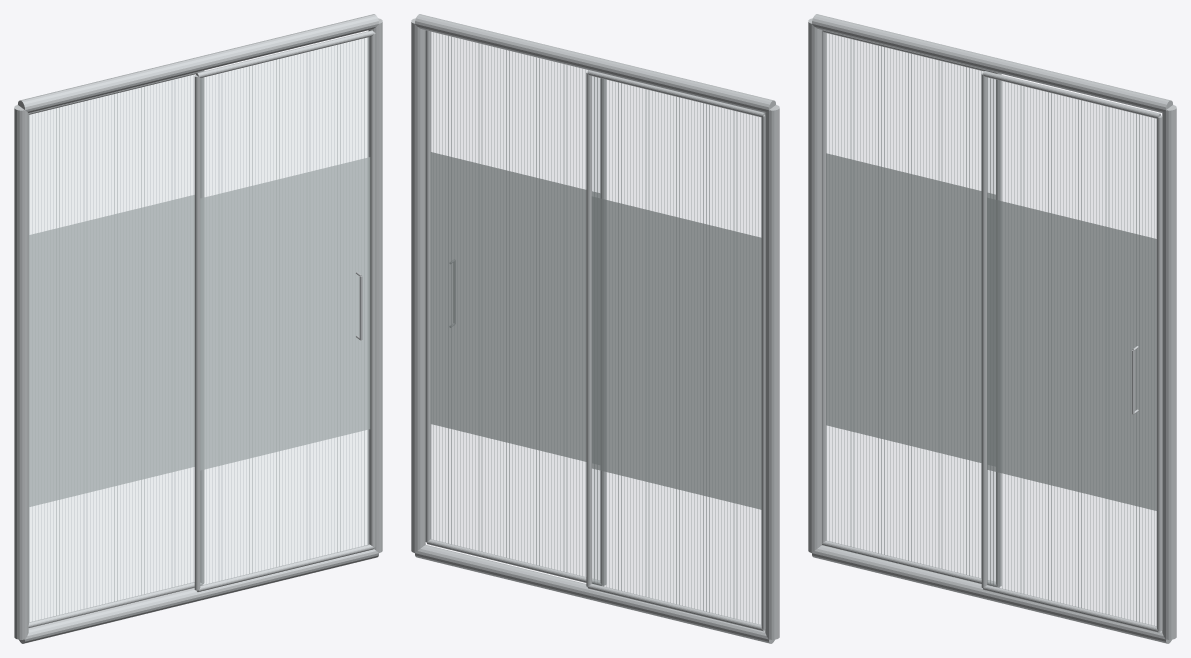
File: silver-frame-striped-privacy-shower-enclosure-04.glb
3 views of the same model, side by side, from view 1: azimuth 30°, elevation 25°; view 2: azimuth 150°, elevation 25°; view 3: azimuth 330°, elevation 25° (orthographic).
Parts seen in each view (by area): view 1: Sliding pane privacy band, Fixed pane privacy band, Sliding pane etched stripes, Fixed pane etched stripes, Rounded silver perimeter, Sliding pane upper clear, Fixed pane upper clear, Sliding pane lower clear, Fixed pane lower clear, Sliding pane rounded edging, Fixed pane rounded edging; view 2: Fixed pane privacy band, Sliding pane privacy band, Rounded silver perimeter, Fixed pane upper clear, Fixed pane lower clear, Sliding pane upper clear, Sliding pane lower clear, Fixed pane etched stripes, Sliding pane etched stripes, Fixed pane rounded edging, Sliding pane rounded edging; view 3: Sliding pane privacy band, Fixed pane privacy band, Sliding pane etched stripes, Fixed pane etched stripes, Rounded silver perimeter, Sliding pane upper clear, Sliding pane lower clear, Fixed pane upper clear, Fixed pane lower clear, Sliding pane rounded edging, Fixed pane rounded edging.
Part boxes in pixels (<box>): Sliding pane privacy band: <box>200,157,370,470</box>; Fixed pane privacy band: <box>29,195,194,506</box>; Sliding pane etched stripes: <box>200,37,367,585</box>; Fixed pane etched stripes: <box>29,75,193,622</box>; Rounded silver perimeter: <box>14,14,382,643</box>; Sliding pane upper clear: <box>201,37,369,197</box>; Fixed pane upper clear: <box>30,75,192,233</box>; Sliding pane lower clear: <box>201,430,369,584</box>; Fixed pane lower clear: <box>30,468,192,621</box>; Sliding pane rounded edging: <box>194,30,375,591</box>; Fixed pane rounded edging: <box>28,70,204,627</box>; Fixed pane privacy band: <box>591,196,761,509</box>; Sliding pane privacy band: <box>430,152,600,464</box>; Rounded silver perimeter: <box>411,14,779,643</box>; Fixed pane upper clear: <box>592,77,760,236</box>; Fixed pane lower clear: <box>592,469,760,624</box>; Sliding pane upper clear: <box>431,32,587,188</box>; Sliding pane lower clear: <box>431,425,585,576</box>; Fixed pane etched stripes: <box>594,77,761,624</box>; Sliding pane etched stripes: <box>433,33,597,579</box>; Fixed pane rounded edging: <box>586,70,765,631</box>; Sliding pane rounded edging: <box>425,30,606,586</box>; Sliding pane privacy band: <box>987,197,1156,510</box>; Fixed pane privacy band: <box>826,153,995,465</box>; Sliding pane etched stripes: <box>987,77,1154,625</box>; Fixed pane etched stripes: <box>826,33,981,578</box>; Rounded silver perimeter: <box>808,14,1176,643</box>; Sliding pane upper clear: <box>988,78,1155,237</box>; Sliding pane lower clear: <box>988,470,1155,625</box>; Fixed pane upper clear: <box>827,34,982,190</box>; Fixed pane lower clear: <box>827,426,980,577</box>; Sliding pane rounded edging: <box>981,71,1162,632</box>; Fixed pane rounded edging: <box>822,30,1001,587</box>.
Bounding box in the file's own units: 1.45 × 2.05 × 0.105.
